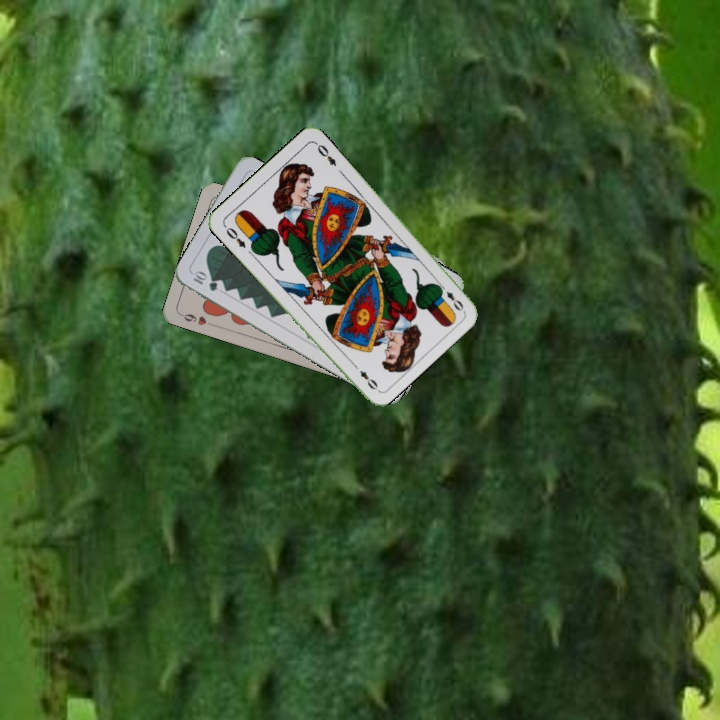EO: (435, 280, 466, 314), (222, 223, 248, 251)
G10: (189, 267, 220, 294)
H9: (176, 309, 216, 329)
